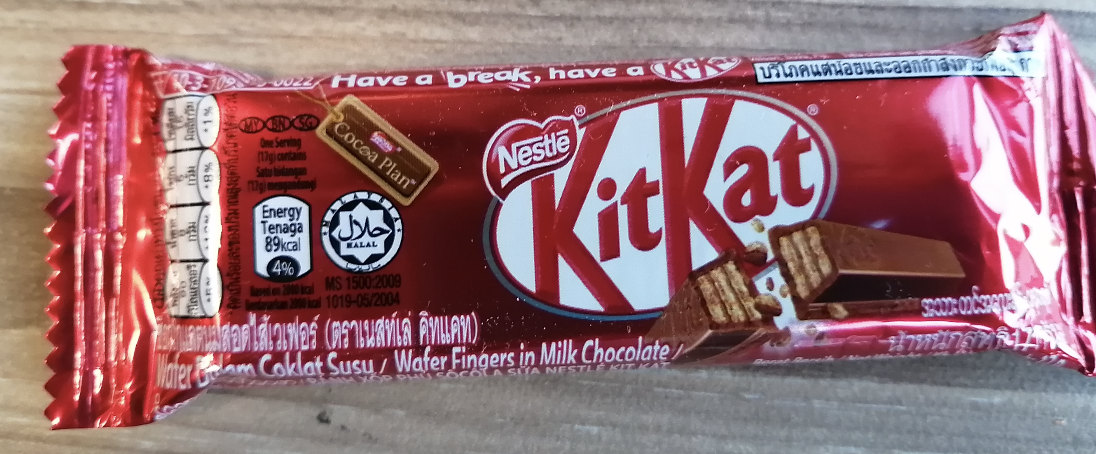Halal: (331, 204, 395, 262)
